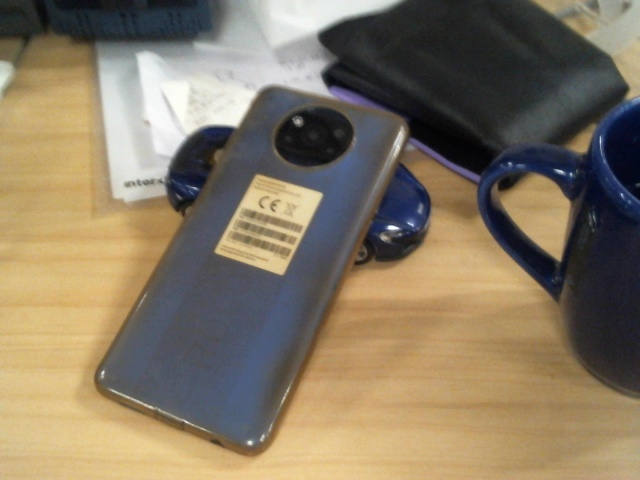handphone: (94, 85, 410, 456)
